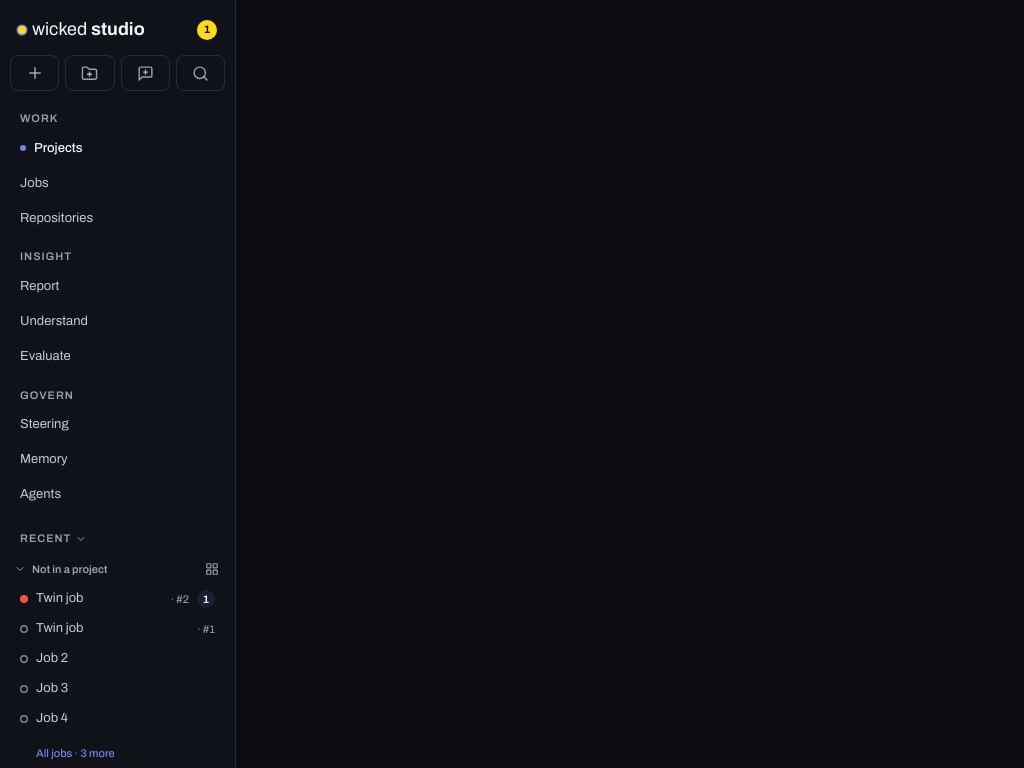
Test case: the top of the rail (operator IA 2026-10-13) › the action row sits under the wordmark: four equal icons, New job · New project · Chat · Search (New job first, operator 2026-10-26) — each named (DES-SYSTEM-CH
The image size is (1024, 768).
Click the button with test id "desk-rail-new-project" at (90, 73), box [65,55,115,91]
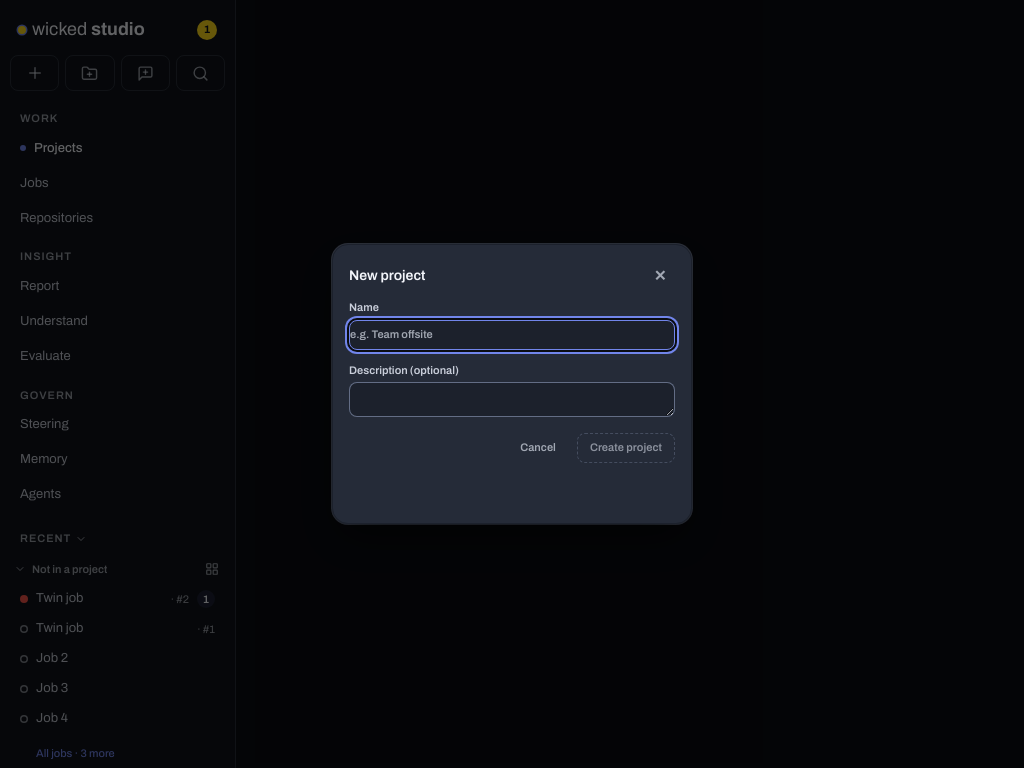
Click the button with test id "new-project-close" at (660, 276), box [645,261,675,291]
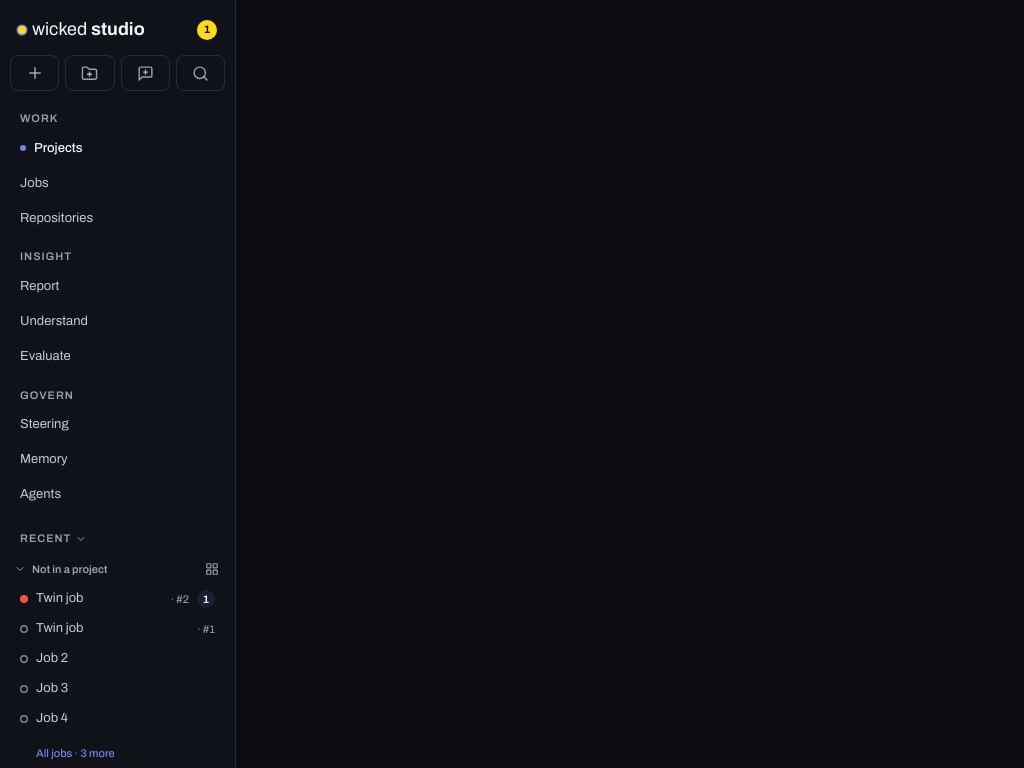
expect the dialog with test id "new-project-modal" is gone: met
